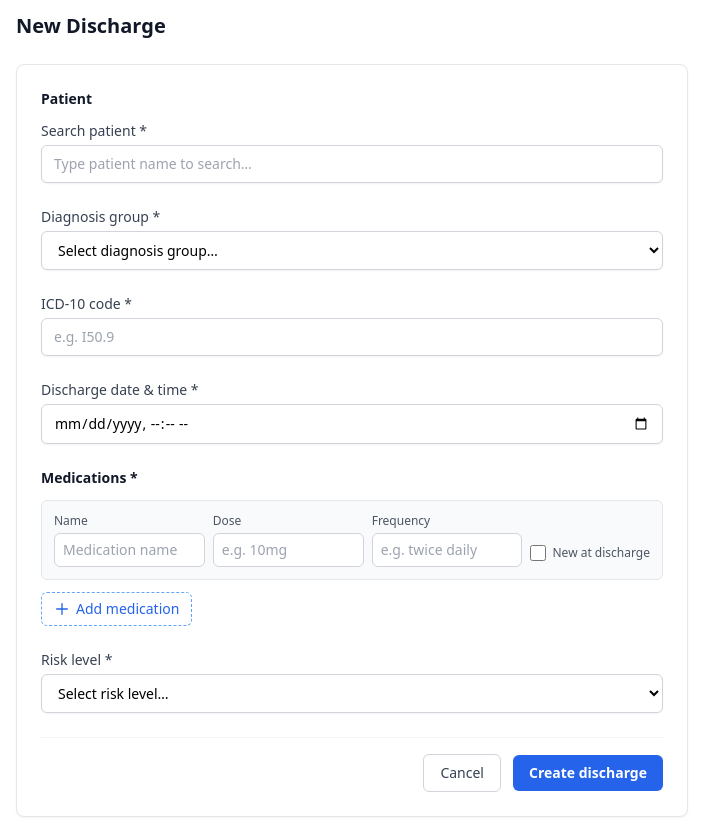
it: 20.2 – Integration: full Discharge Form flow (Admin) › shows autocomplete dropdown with patient results after typing
In the dropdown labelled "Search patient *": x=352, y=164 [41,145,663,183], type "Jane"
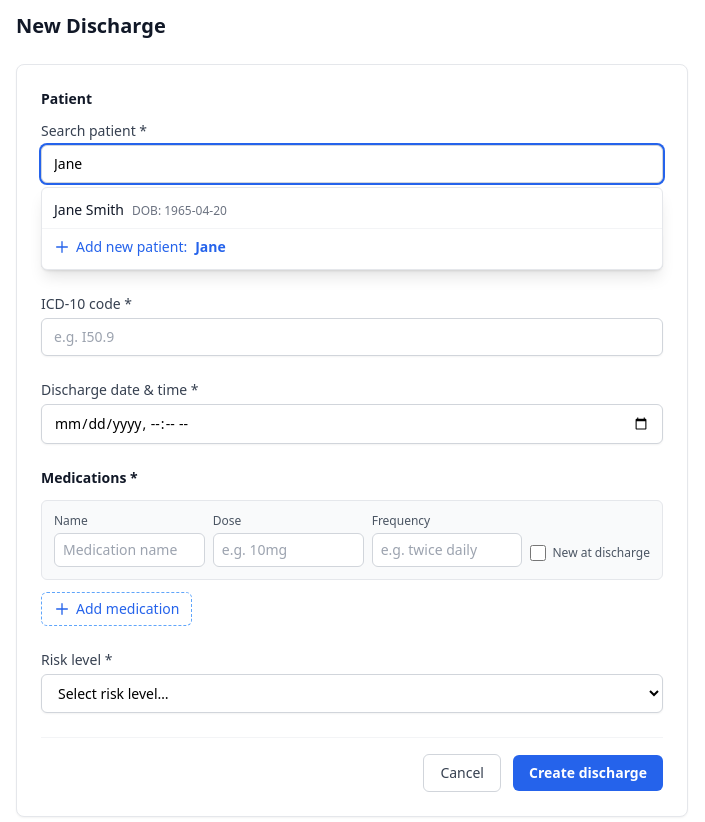
Now the list named "patient search results" is shown, box [41,187,663,270]
Now the option "Jane Smith" is shown, box [54,200,227,219]
